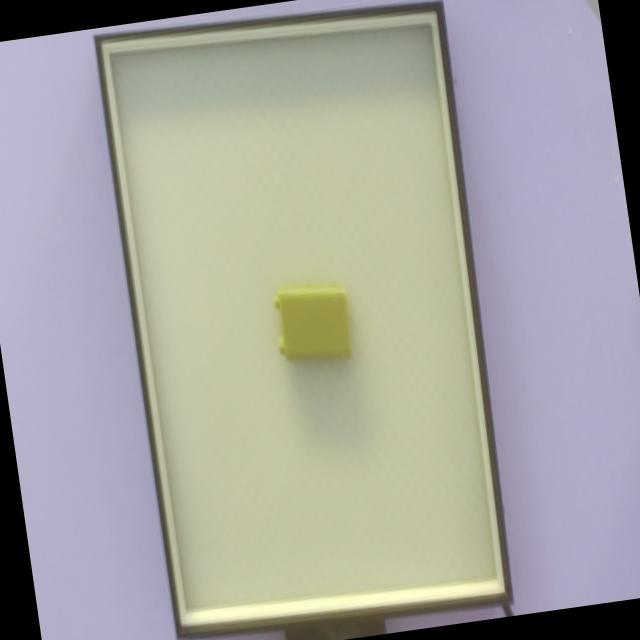bateria: (274, 285, 352, 362)
mesa: (93, 0, 515, 640)
